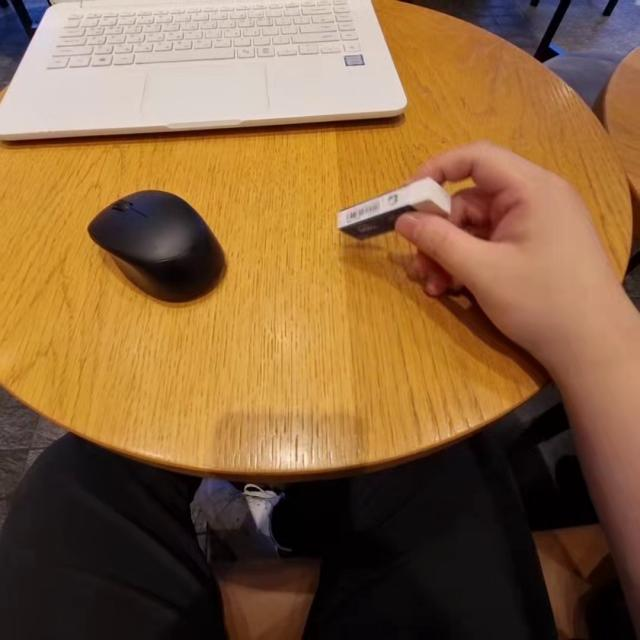eraser: (317, 177, 450, 240)
grab_eraser: (350, 154, 603, 344)
hand: (400, 145, 586, 312)
mouse: (86, 184, 238, 307)
